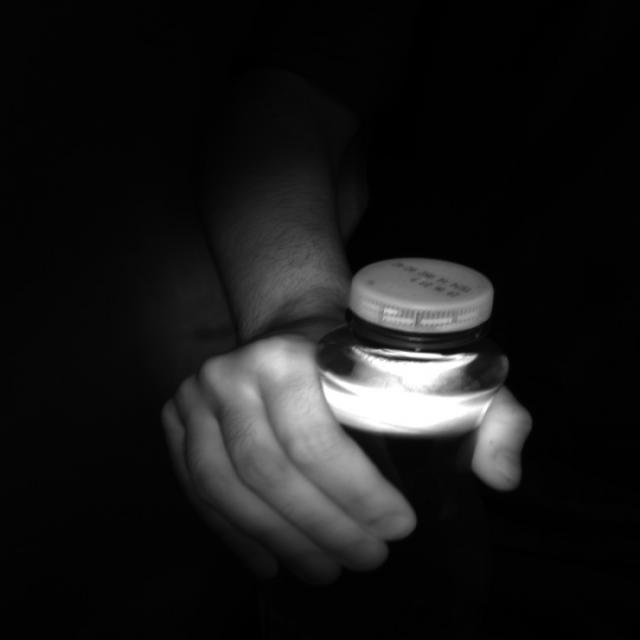Not Good: (350, 259, 493, 345)
